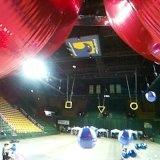Purple_Balloon: (77, 126, 97, 150), (118, 131, 133, 145), (145, 91, 157, 102)
Yellow_Circle_GShape: (130, 102, 138, 111)
Yellow_Square_GShape: (64, 100, 73, 110)
Yellow_Triangle_Gshape: (98, 104, 106, 114)
